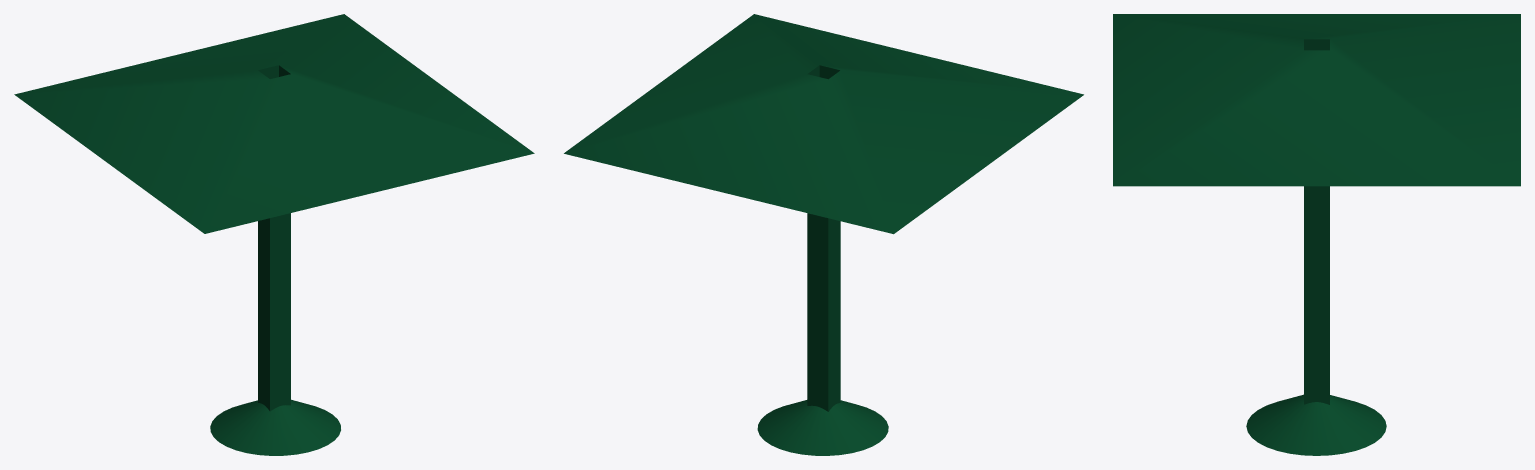
Rendered from parasolgroen.fbx.
The picture shows the model from 3 angles, left to right: view 1: azimuth 30°, elevation 25°; view 2: azimuth 150°, elevation 25°; view 3: azimuth 270°, elevation 25°; orthographic projection. The views are drawn at different scales.
Parts seen in each view (by area): view 1: Plane, Circle.002; view 2: Plane, Circle.002; view 3: Plane, Circle.002.
Part boxes in pixels (bbox=[...]): Plane: bbox=[14, 14, 534, 411]; Circle.002: bbox=[210, 399, 340, 455]; Plane: bbox=[564, 14, 1083, 411]; Circle.002: bbox=[757, 400, 888, 455]; Plane: bbox=[1113, 14, 1520, 404]; Circle.002: bbox=[1246, 394, 1386, 455].
Size of the model in its own units: 830 by 856 by 830.
